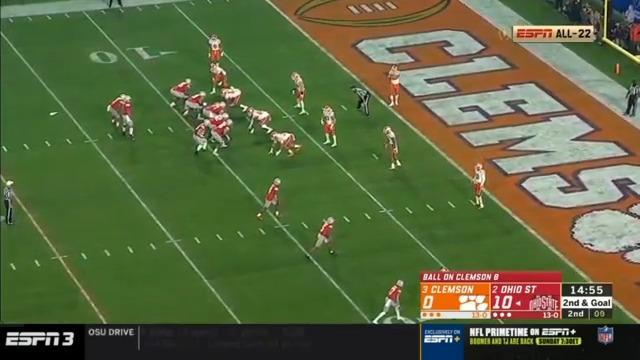player: (369, 280, 402, 324), (256, 177, 286, 222), (311, 216, 340, 261), (268, 131, 304, 160), (382, 123, 403, 172), (470, 160, 489, 210), (212, 118, 235, 158), (190, 117, 211, 160), (320, 103, 339, 149), (385, 64, 404, 110), (289, 70, 308, 114), (210, 63, 236, 95), (118, 94, 136, 139), (106, 92, 127, 130), (169, 79, 194, 109), (207, 33, 225, 74), (248, 108, 276, 134), (220, 87, 248, 113), (181, 91, 206, 120), (207, 112, 229, 130), (204, 102, 227, 119)
ref: (0, 174, 19, 227), (353, 85, 372, 121), (623, 80, 640, 120), (106, 0, 124, 9)
